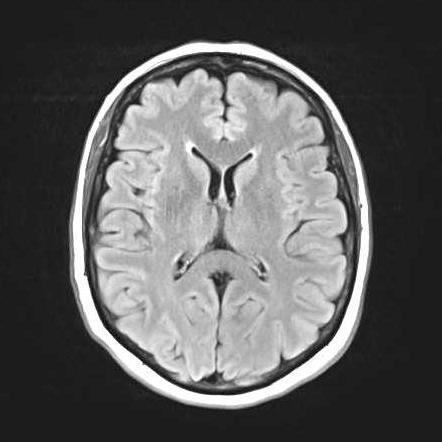Normal_Brain: (49, 55, 424, 442)
